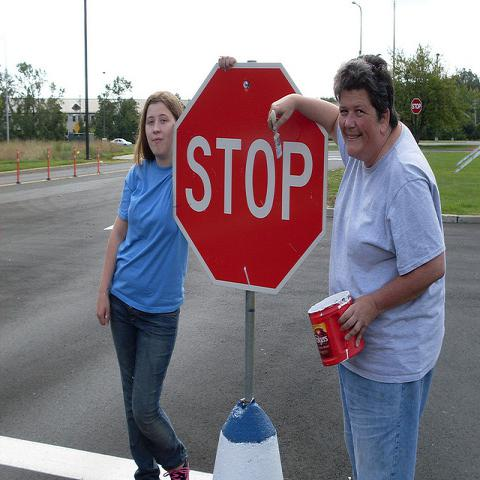car: (110, 138, 134, 146)
